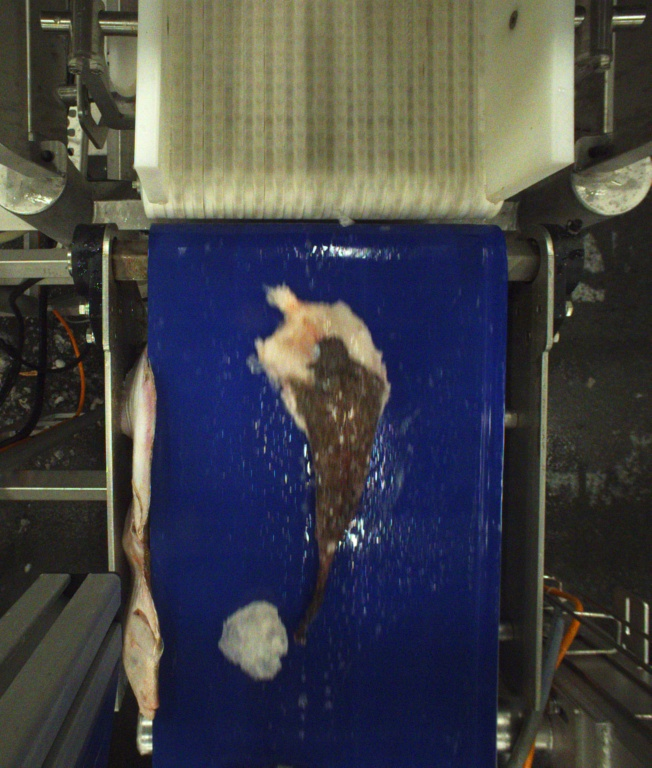ANF: (266, 301, 391, 656)
